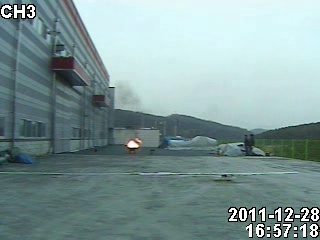fire: (121, 136, 143, 151)
